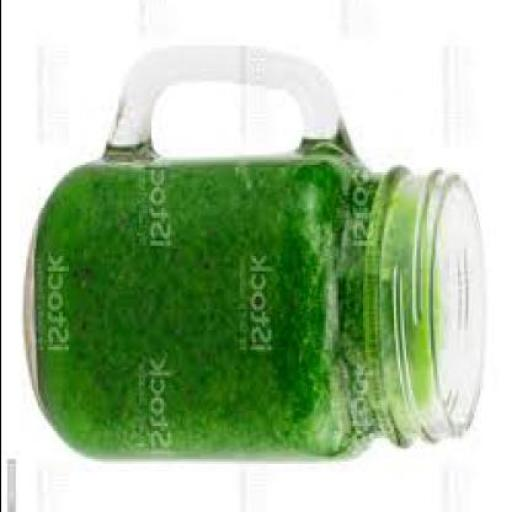glass: (25, 51, 485, 459)
